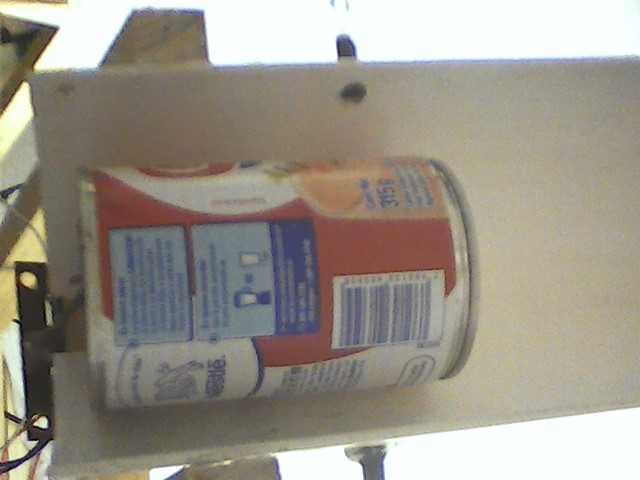lata: (70, 153, 494, 424)
